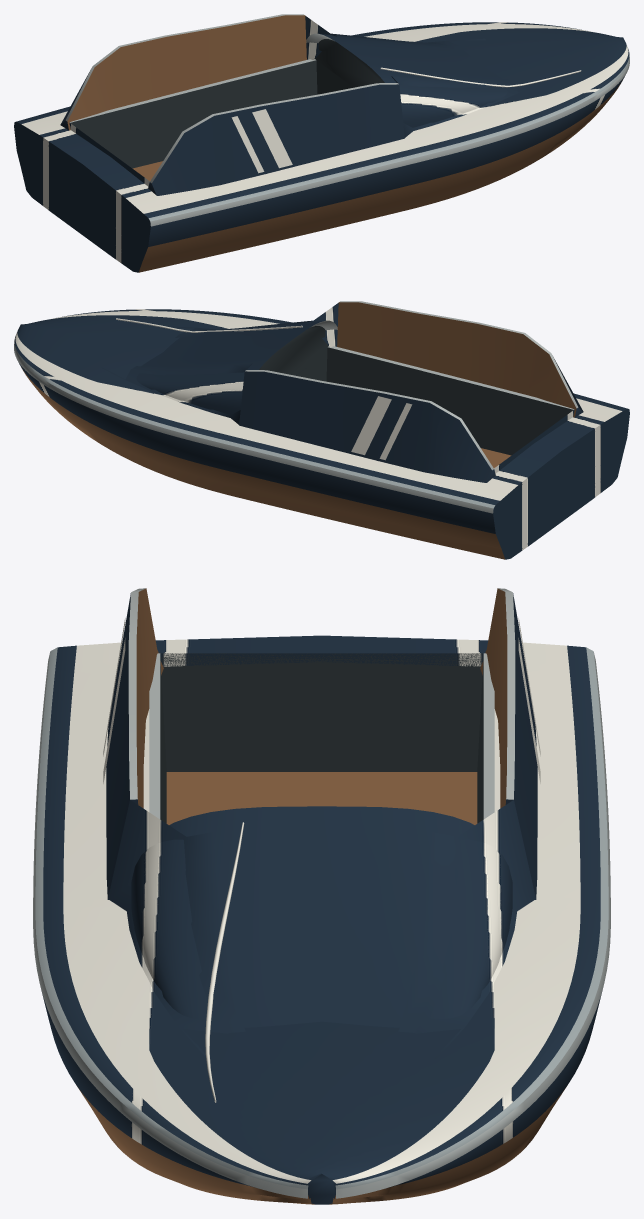
File: Hull_08_N_炭紺・白筋.glb
3 views of the same model, one above another, from view 1: azimuth 30°, elevation 25°; view 2: azimuth 150°, elevation 25°; view 3: azimuth 270°, elevation 25° (orthographic). The views are drawn at different scales.
Parts seen in each view (by area): view 1: Hull_08_N; view 2: Hull_08_N; view 3: Hull_08_N.
Boxes of the visible parts, x1=… form: Hull_08_N: x1=14, y1=14, x2=629, y2=272; Hull_08_N: x1=14, y1=301, x2=629, y2=559; Hull_08_N: x1=33, y1=588, x2=610, y2=1204.
Size of the model in its own units: 2.9 by 0.6856 by 1.34.
Materials: 4 (4 with a texture image).
